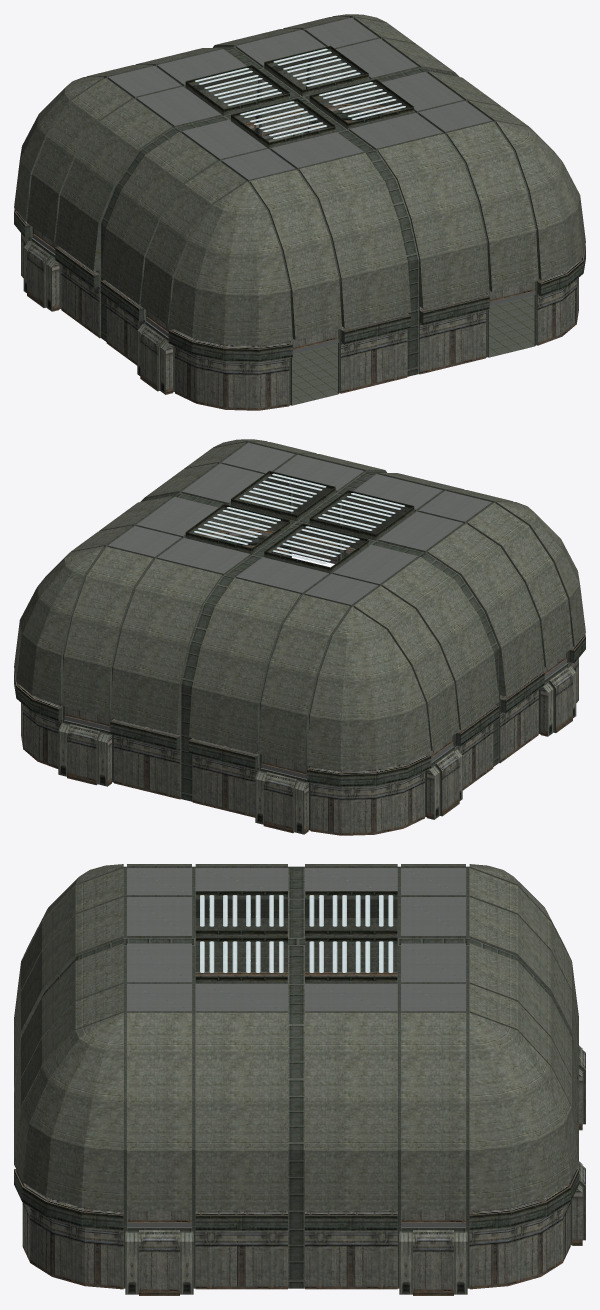
File: poi_all_impl_bunker_crimelord_retreat_s01_r44_treasureroom_mesh_r44.fbx
The picture shows the model from 3 angles, top to bottom: view 1: azimuth 30°, elevation 25°; view 2: azimuth 150°, elevation 25°; view 3: azimuth 270°, elevation 25°; orthographic projection. The views are drawn at different scales.
Parts seen in each view (by area): view 1: mesh_node; view 2: mesh_node; view 3: mesh_node.
Part boxes in pixels (x1,y1,x2,y2): mesh_node: (14,14,585,410); mesh_node: (14,439,585,835); mesh_node: (14,864,585,1295).
Size of the model in its own units: 33.8 by 15.46 by 33.4.
